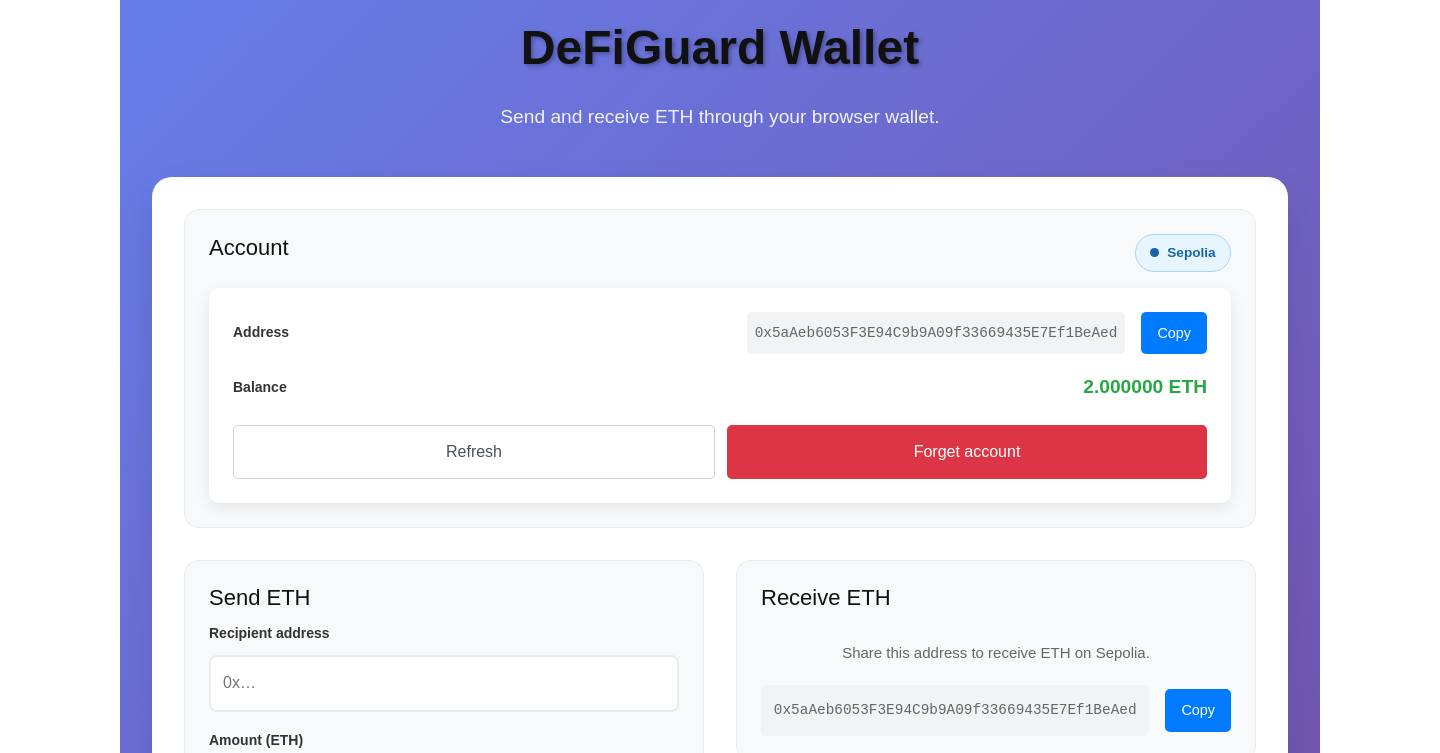
Test: Wallet page › moves a sent transfer to confirmed once a receipt appears
This screenshot has width=1440, height=753.
Expected: the text with test id "account-address" is shown, [747,312,1125,354]
Type "0xfB6916095ca1df60bB79Ce92cE3Ea74c37c5d359" into the field labelled "Recipient address". click: coordinates (444, 683)
box: [209,655,679,712]
(page scrolled)
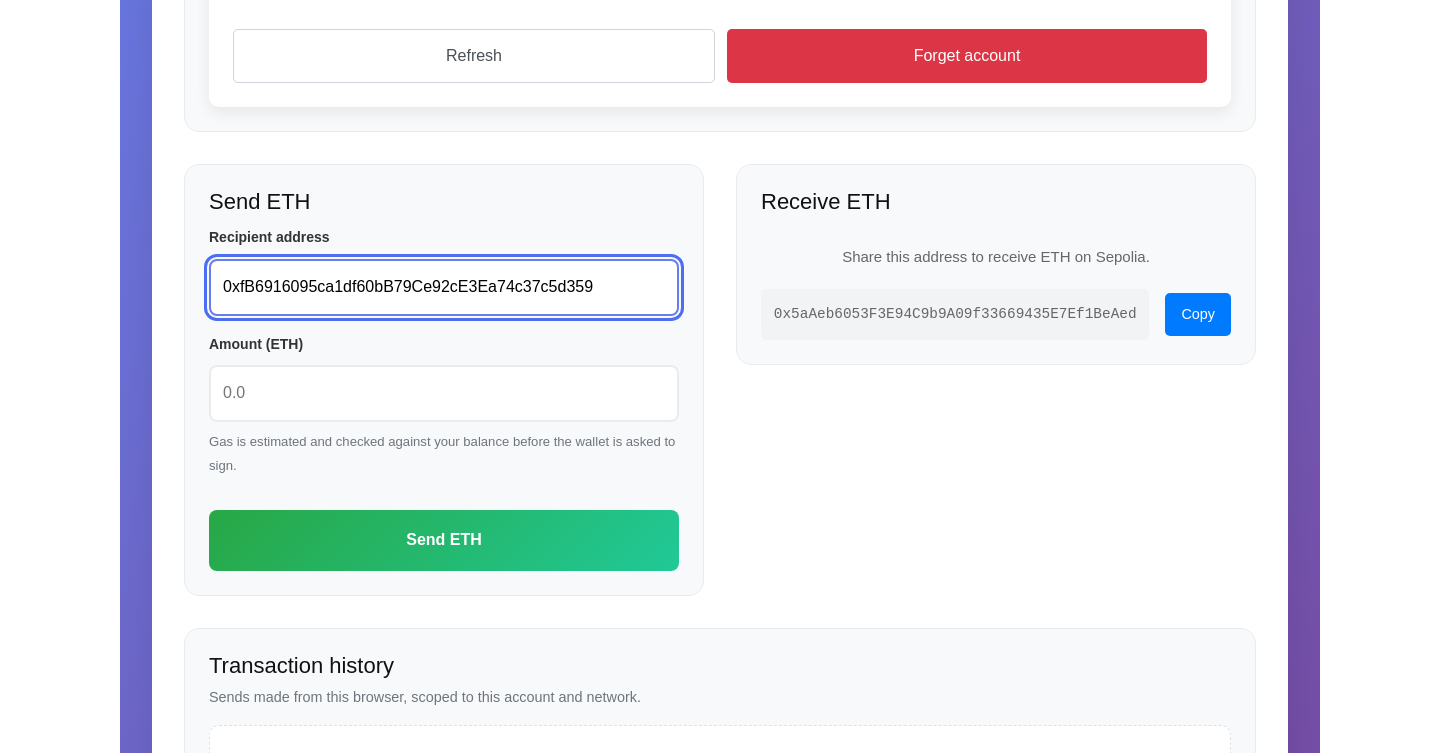
Type "0.25" into the field labelled "Amount (ETH)". click: coordinates (444, 393)
box: [209,365,679,422]
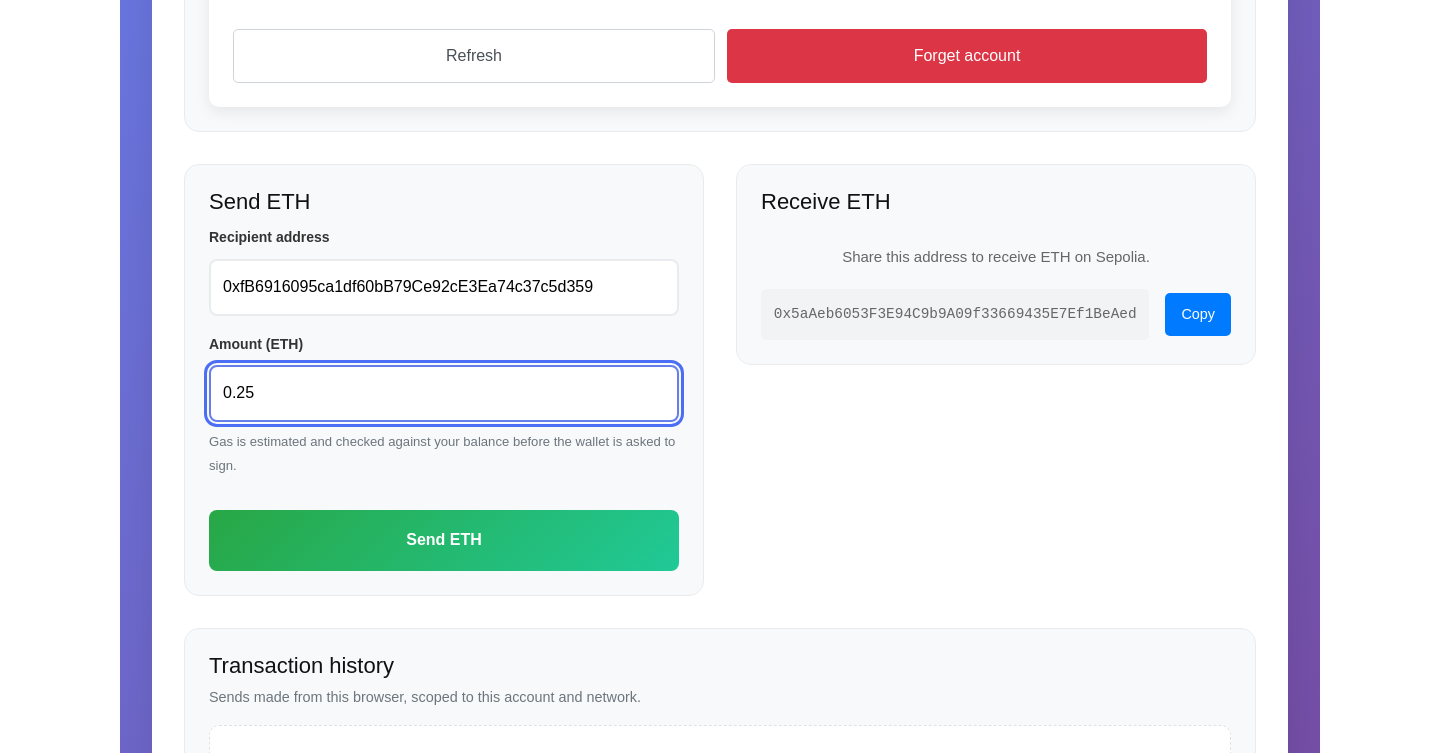
Click the button "Send ETH". click: coordinates (444, 540)
box: [209,510,679,571]
(page scrolled)
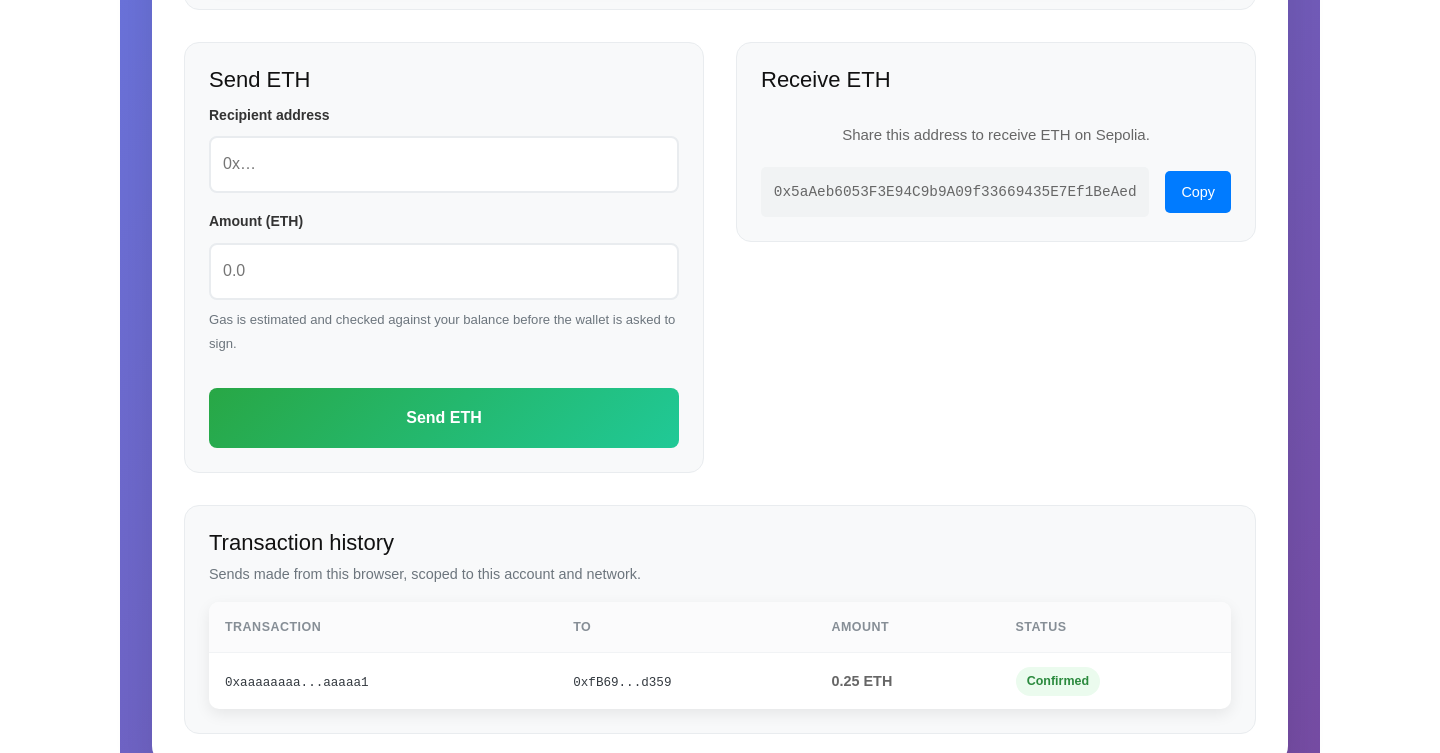
Expected: the text "Confirmed" is shown, [1016,667,1100,696]
